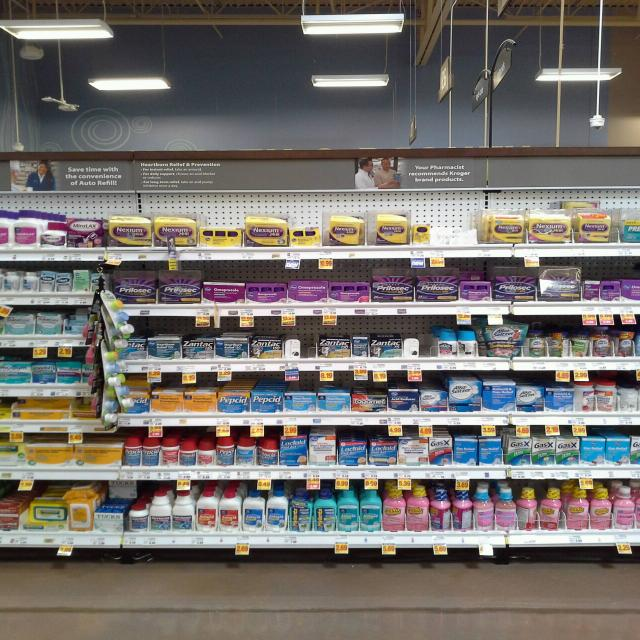empty: (431, 208, 479, 247), (403, 320, 437, 363), (281, 321, 318, 358)
